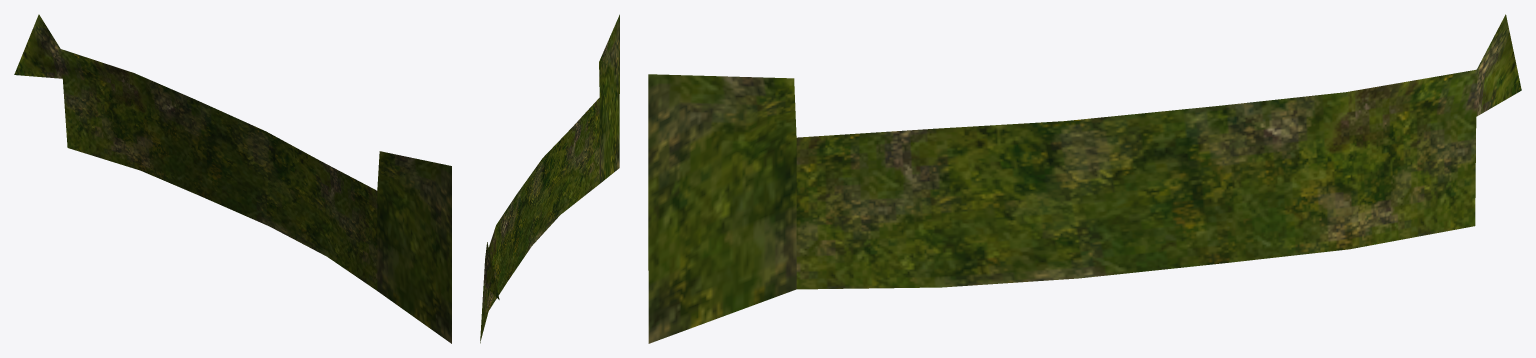
File: OVERHILL_A_01_OBJECT41.fbx
3 renders of one model, left to right at view 1: azimuth 30°, elevation 25°; view 2: azimuth 150°, elevation 25°; view 3: azimuth 270°, elevation 25°, orthographic. The views are drawn at different scales.
Parts seen in each view (by area): view 1: OVERHILL_A_01_OBJECT41; view 2: OVERHILL_A_01_OBJECT41; view 3: OVERHILL_A_01_OBJECT41.
Part boxes in pixels (left/top/right/bottom): OVERHILL_A_01_OBJECT41: left=14, top=14, right=451, bottom=343; OVERHILL_A_01_OBJECT41: left=480, top=14, right=619, bottom=343; OVERHILL_A_01_OBJECT41: left=648, top=14, right=1521, bottom=343.
Size of the model in its own units: 18784 by 21390 by 62802.
Materials: 1 (1 with a texture image).
